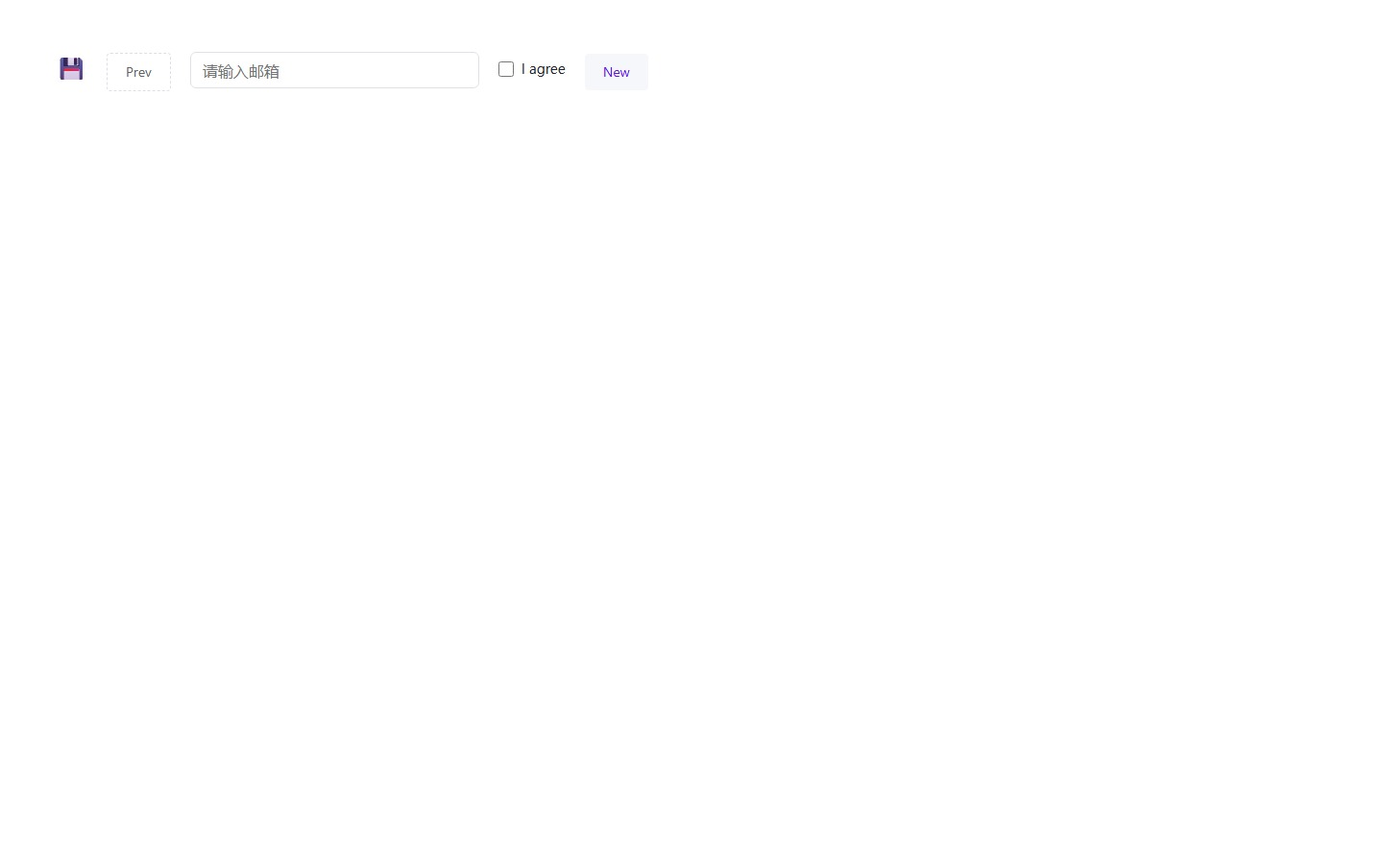button: (107, 52, 171, 91), (585, 53, 648, 90)
checkbox: (498, 61, 514, 76)
icon: (521, 60, 565, 78), (56, 55, 87, 78)
input: (190, 52, 479, 88)
radio: (498, 60, 565, 78)
